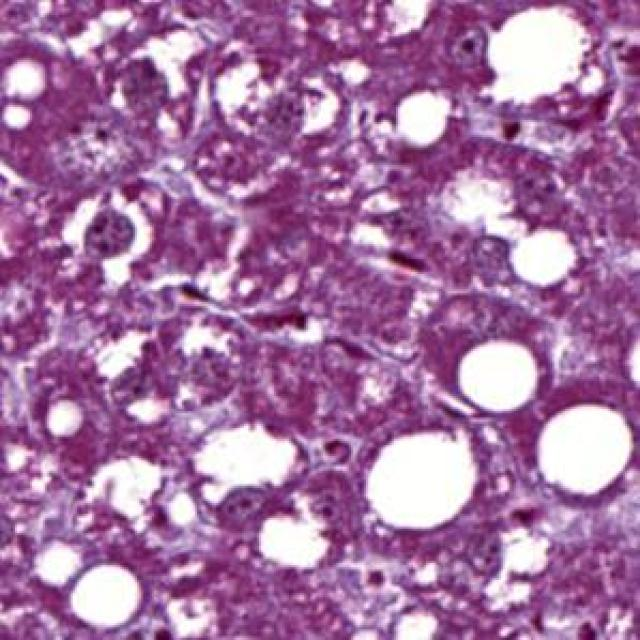steatosis: (364, 424, 477, 531), (535, 402, 632, 492), (458, 338, 550, 420), (511, 236, 578, 291)
